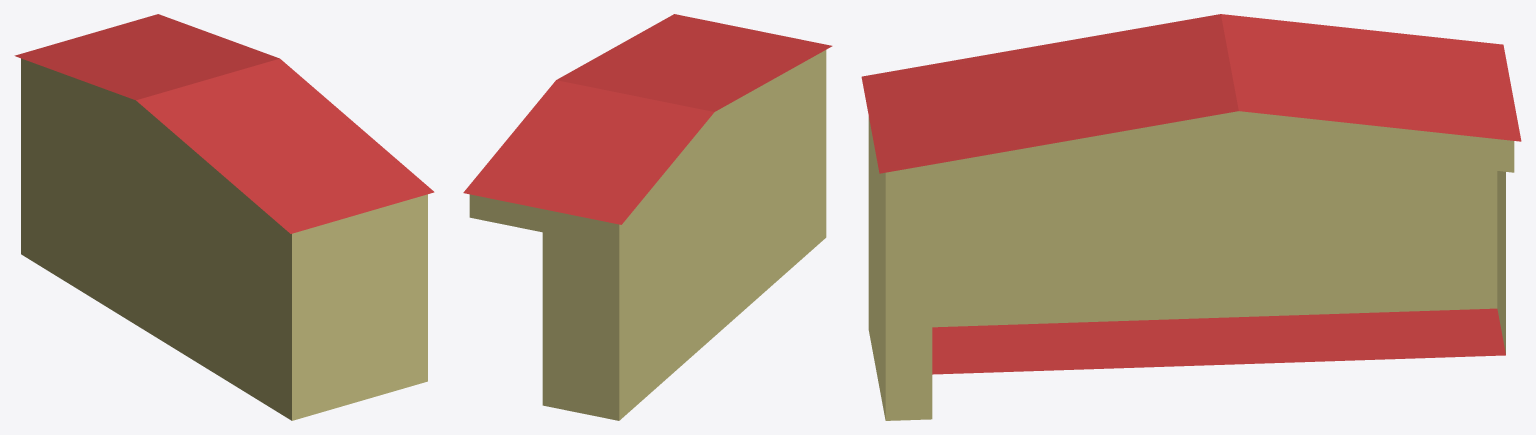
3 views of the same model, side by side, from view 1: azimuth 30°, elevation 25°; view 2: azimuth 150°, elevation 25°; view 3: azimuth 270°, elevation 25° (orthographic). The views are drawn at different scales.
Bounding box in the file's own units: 10.53 × 24.81 × 12.48.
